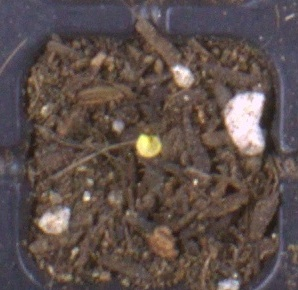chilli seed: (136, 133, 163, 159)
